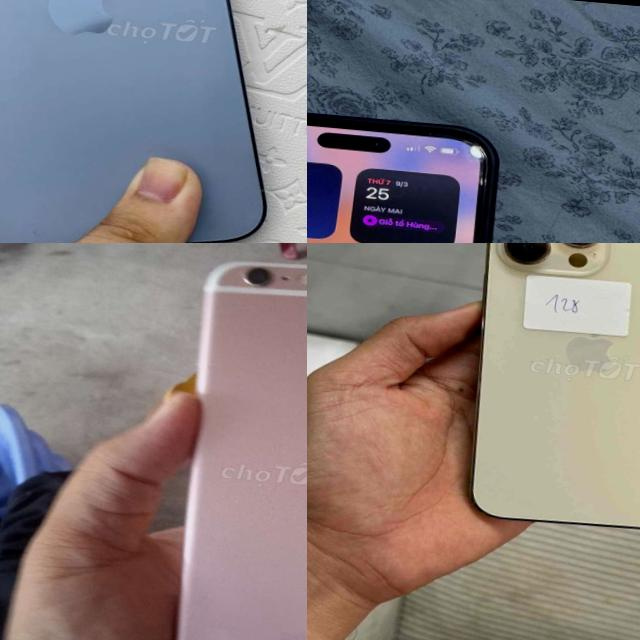gen_12_13: (0, 0, 303, 243)
gen_14: (448, 243, 640, 543), (307, 94, 517, 243)
gen_6: (174, 261, 307, 640)
